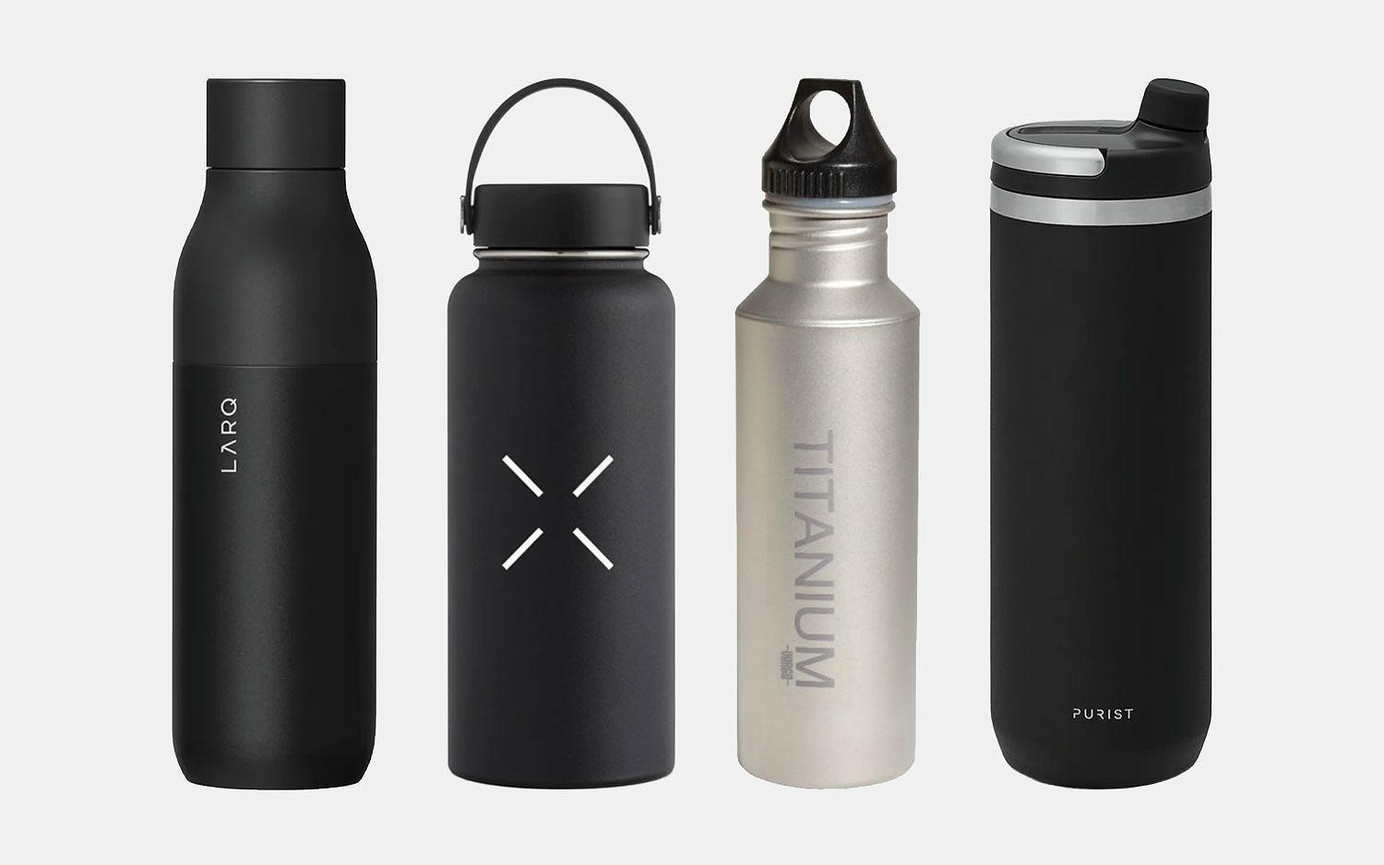gym bottle: (438, 74, 686, 800), (980, 74, 1223, 795), (162, 71, 387, 796), (726, 74, 931, 796)
